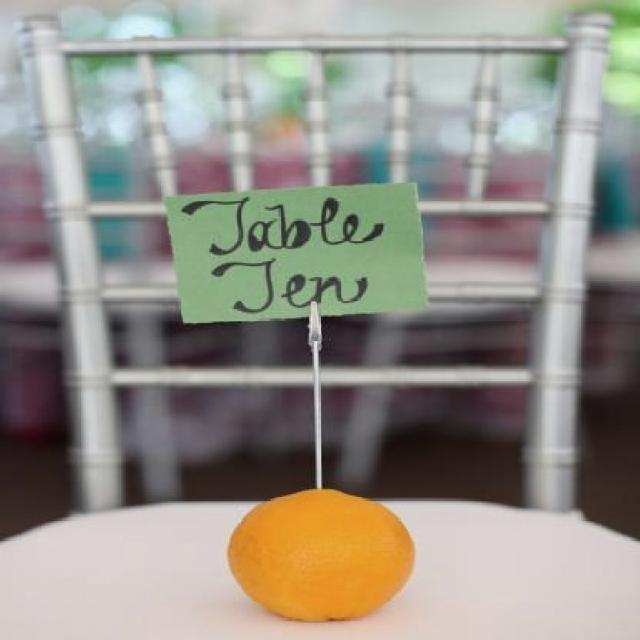Jeruk Sudah Matang: (228, 484, 417, 624)
